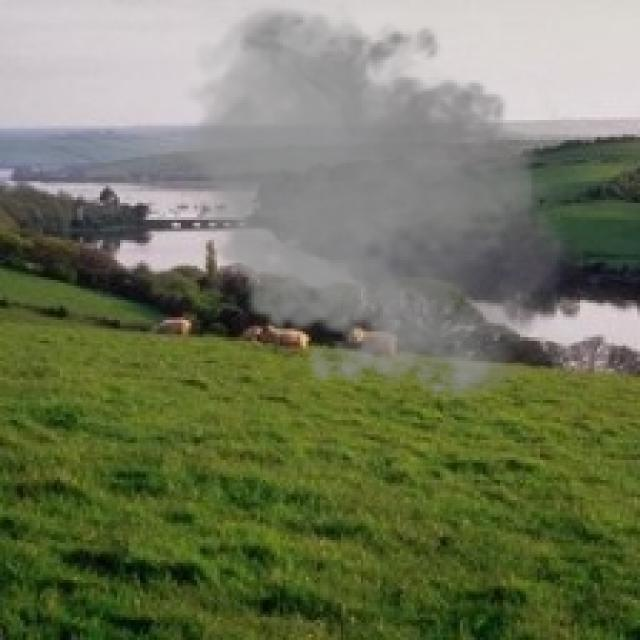smoke: (168, 0, 595, 412)
